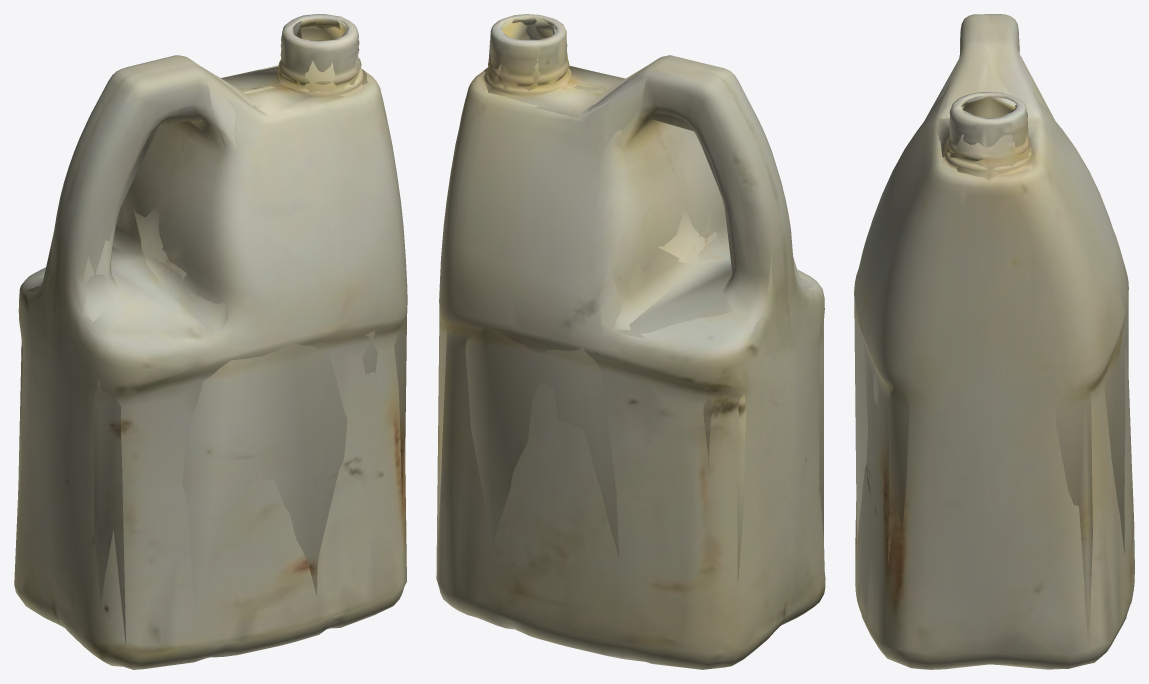
The model's file is plastic_bottle_gallon.glb.
3 renders of one model, left to right at view 1: azimuth 30°, elevation 25°; view 2: azimuth 150°, elevation 25°; view 3: azimuth 270°, elevation 25°, orthographic.
Visible parts, largest first — view 1: plastic_bottle_gallon, plastic_bottle_gallon_lo; view 2: plastic_bottle_gallon, plastic_bottle_gallon_lo; view 3: plastic_bottle_gallon, plastic_bottle_gallon_lo.
Part boxes in pixels (left/top/right/bottom): plastic_bottle_gallon: left=14, top=14, right=407, bottom=669; plastic_bottle_gallon_lo: left=17, top=17, right=406, bottom=658; plastic_bottle_gallon: left=436, top=14, right=825, bottom=669; plastic_bottle_gallon_lo: left=436, top=16, right=823, bottom=669; plastic_bottle_gallon: left=854, top=14, right=1134, bottom=669; plastic_bottle_gallon_lo: left=854, top=47, right=1128, bottom=665.
Bounding box in the file's own units: 0.1661 × 0.2745 × 0.1263.
Materials: 1 (1 with a texture image).
